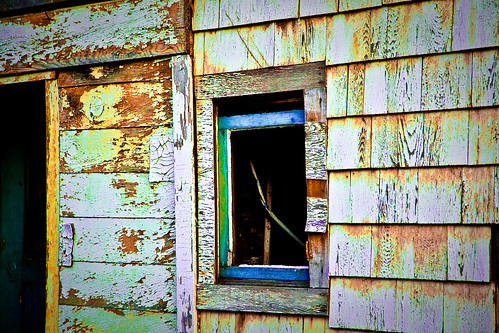building: (15, 1, 492, 325)
window: (179, 74, 331, 309)
